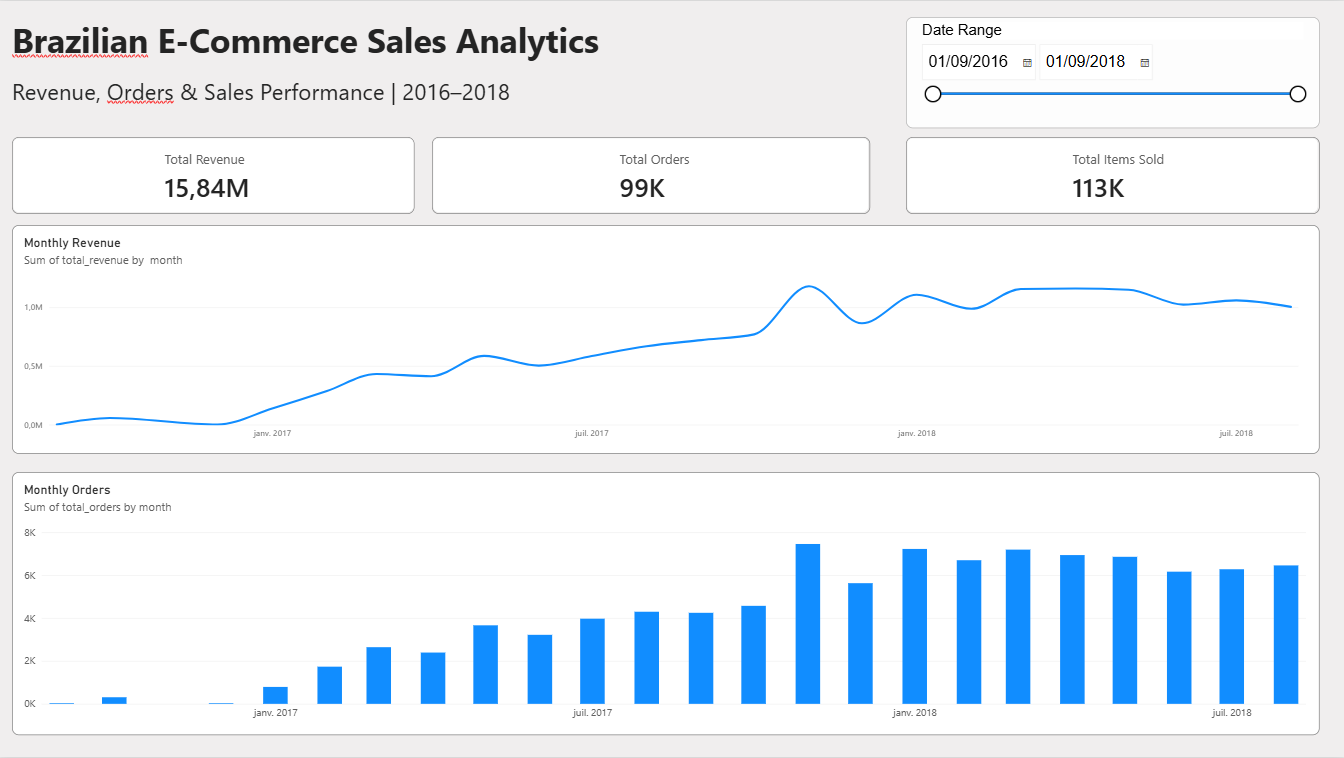

The dashboard page shown, as its layout file describes it:
{"tool":"powerbi","page":{"name":"Page 1","canvas":[1920,1080],"ordinal":0},"visuals":[{"type":"cardVisual","title":"Total Revenue","fields":{"Data":["Sum(monthly_sales.total_revenue)"]},"box":[0,0,606.7,343.3],"z":0},{"type":"cardVisual","title":"Total Orders","fields":{"Data":["Sum(monthly_sales.total_orders)"]},"box":[606.7,0,688.3,356.7],"z":1000},{"type":"cardVisual","title":"Total Items Sold","fields":{"Data":["Sum(monthly_sales.total_items)"]},"box":[1295,0,625,343.3],"z":2000},{"type":"lineChart","title":"Olist E-Commerce — Monthly Revenue","fields":{"Category":["monthly_sales.month"],"Y":["Sum(monthly_sales.total_revenue)"]},"box":[0,343.3,1920,338.3],"z":3000},{"type":"columnChart","title":"Monthly Orders","fields":{"Category":["monthly_sales.month"],"Y":["Sum(monthly_sales.total_orders)"]},"box":[0,681.7,1920,398.3],"z":3001}]}

Visuals, with their boxes in screenshot pixels (x1, y1, x2, y2), scaled from the page's 1920x1080 canvas onto the 1344x758 screenshot:
"Total Revenue" cardVisual: (0, 0, 425, 241)
"Total Orders" cardVisual: (425, 0, 906, 250)
"Total Items Sold" cardVisual: (906, 0, 1343, 241)
"Olist E-Commerce — Monthly Revenue" lineChart: (0, 241, 1343, 478)
"Monthly Orders" columnChart: (0, 478, 1343, 757)
